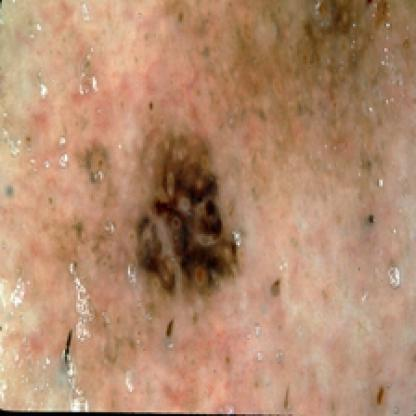malignant: (143, 151, 240, 284)
